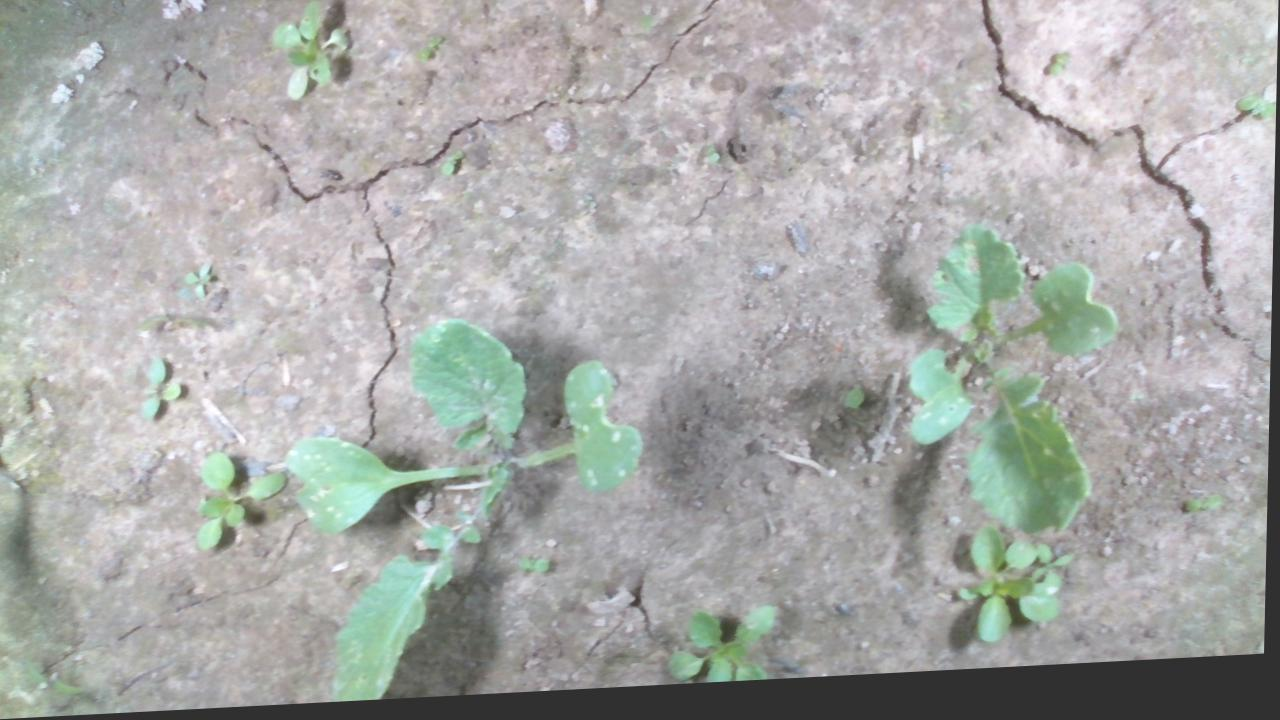weed: (140, 358, 185, 423), (183, 260, 216, 303), (1235, 105, 1275, 135), (438, 150, 466, 182), (517, 558, 553, 580), (1045, 61, 1068, 88)
